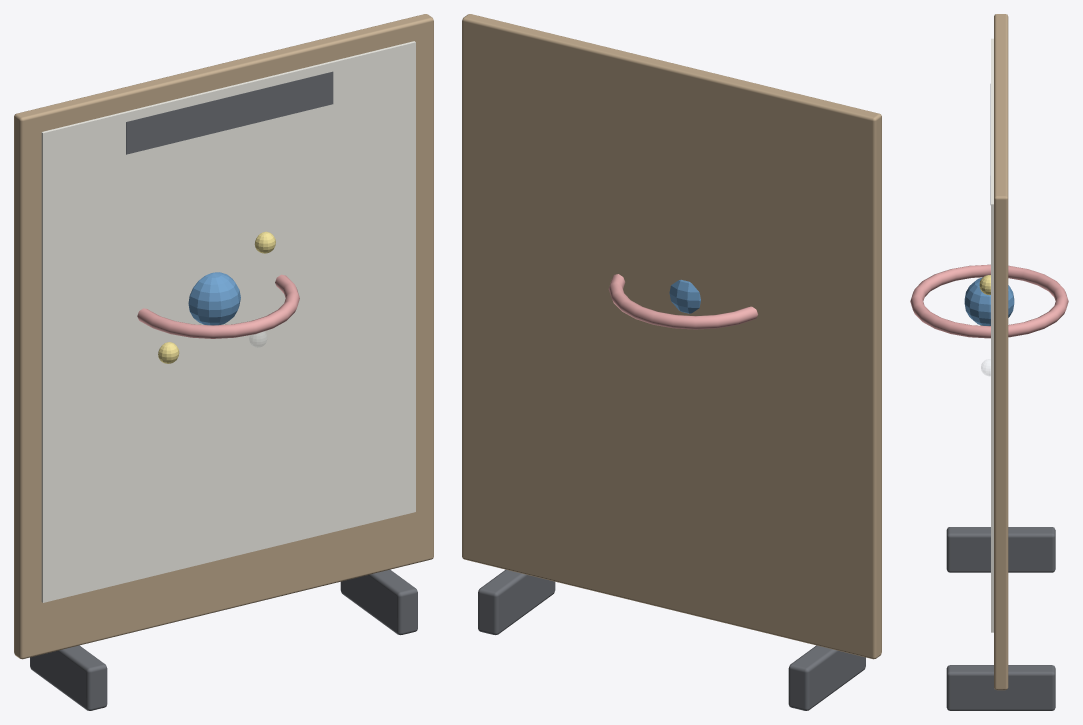
Rendered from human-anatomy-and-education-kit-wall-chart-cell-1bdfb9bf__38970.glb.
3 renders of one model, left to right at view 1: azimuth 30°, elevation 25°; view 2: azimuth 150°, elevation 25°; view 3: azimuth 270°, elevation 25°, orthographic. The views are drawn at different scales.
Parts seen in each view (by area): view 1: wall-chart-cell; view 2: wall-chart-cell; view 3: wall-chart-cell.
Boxes of the visible parts, box(x1,y1,x2,y2) form: wall-chart-cell: box(14, 14, 433, 710); wall-chart-cell: box(462, 14, 881, 710); wall-chart-cell: box(910, 14, 1068, 710).
Size of the model in its own units: 1.2 by 1.62 by 0.436.
